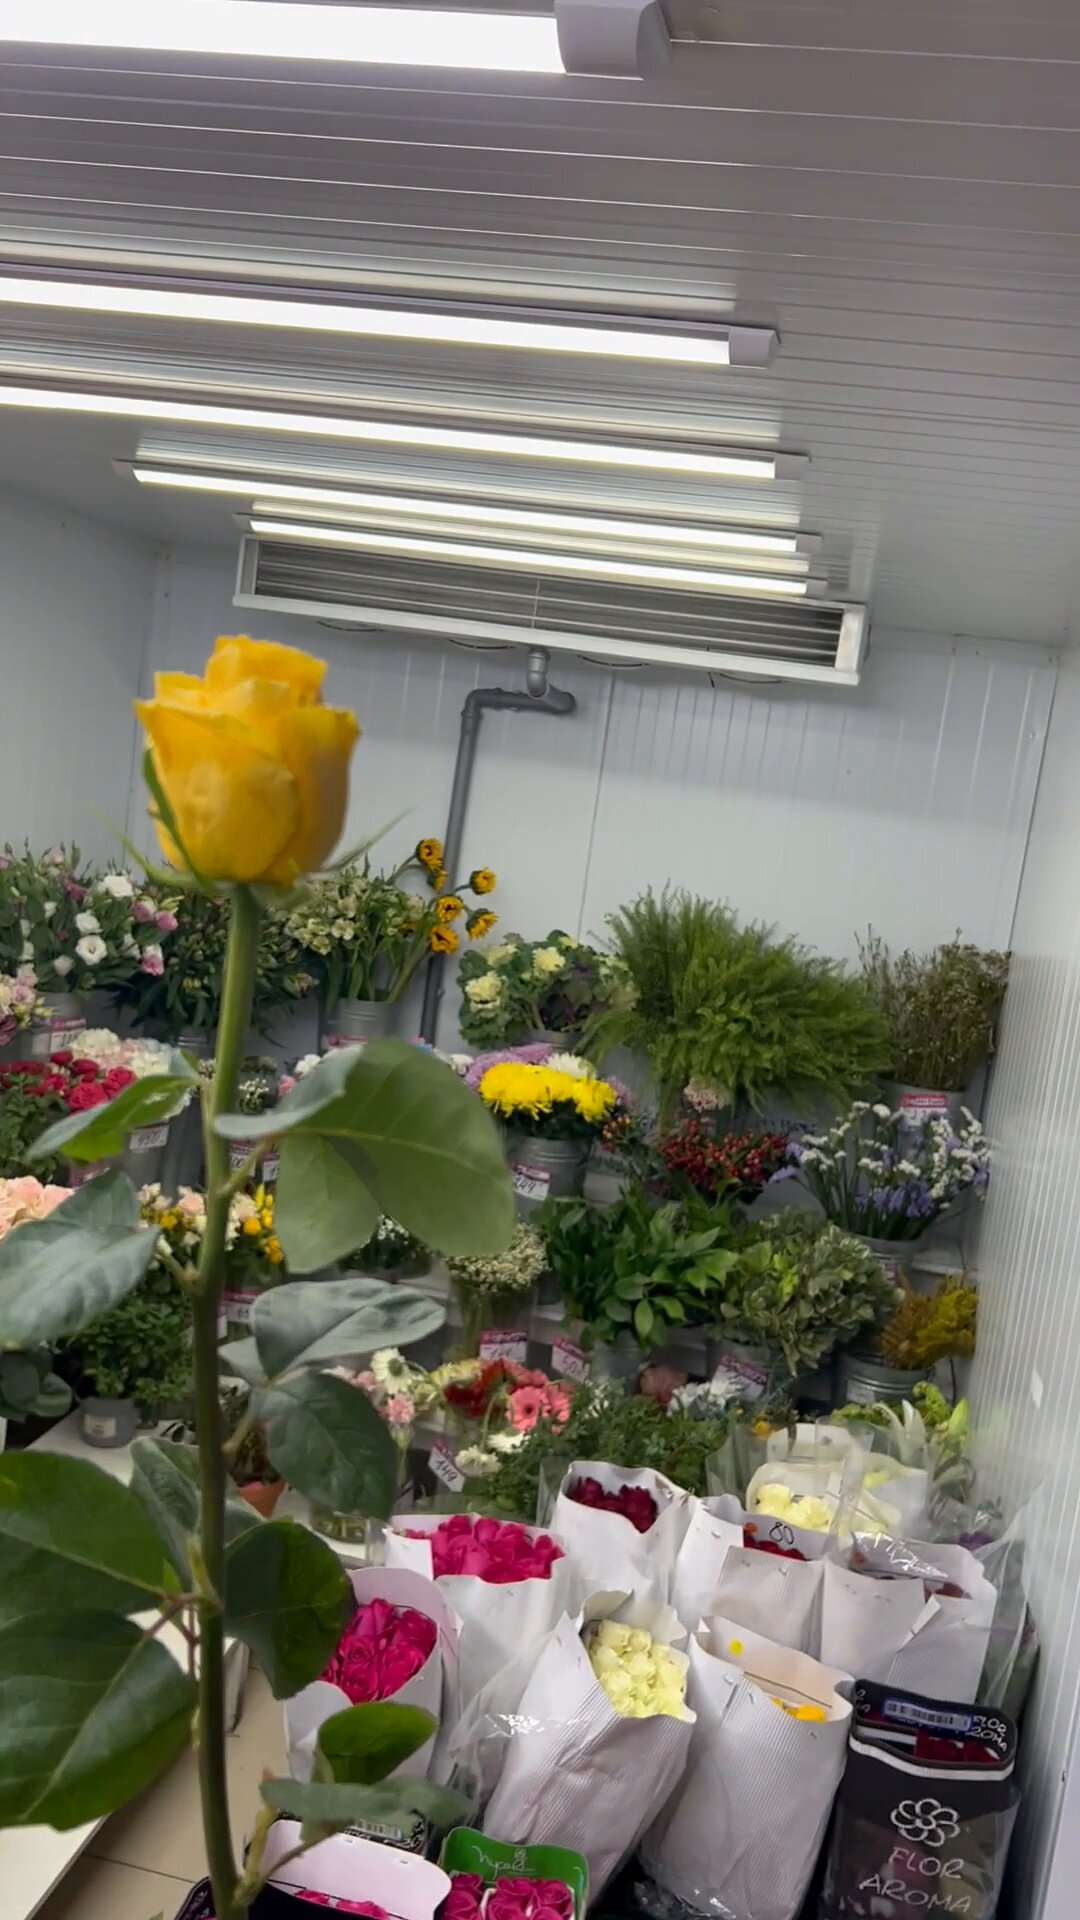rose: (45, 629, 504, 1920)
